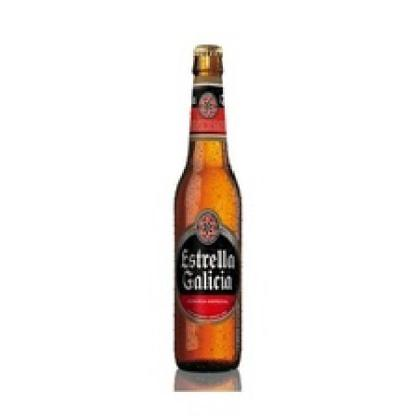Can: (174, 45, 242, 373)
